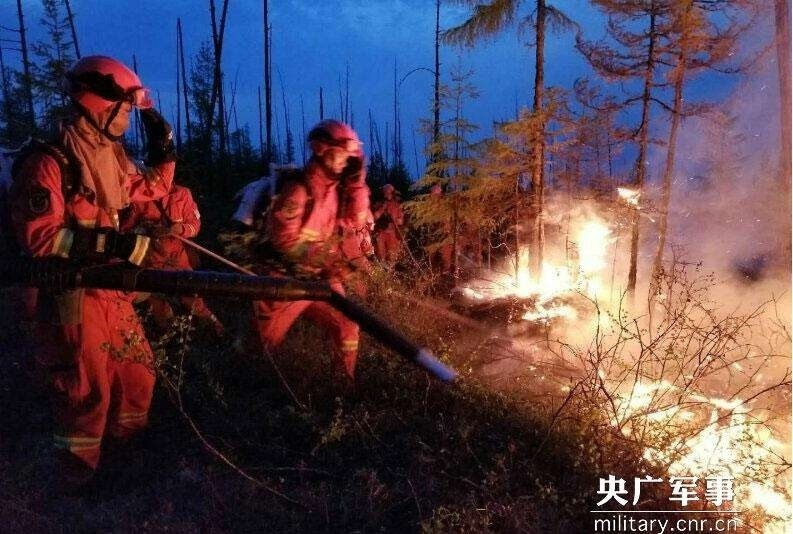fire: (611, 363, 792, 531), (469, 194, 635, 324)
